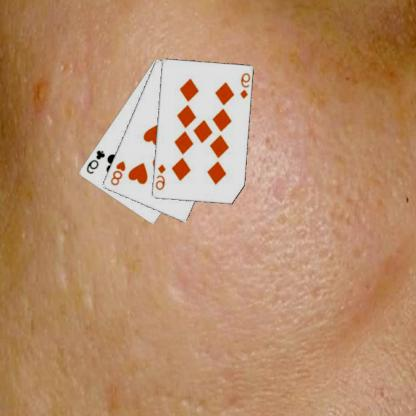6C: (85, 148, 108, 176)
8H: (110, 158, 128, 187)
9D: (239, 70, 252, 100), (155, 162, 168, 191)
